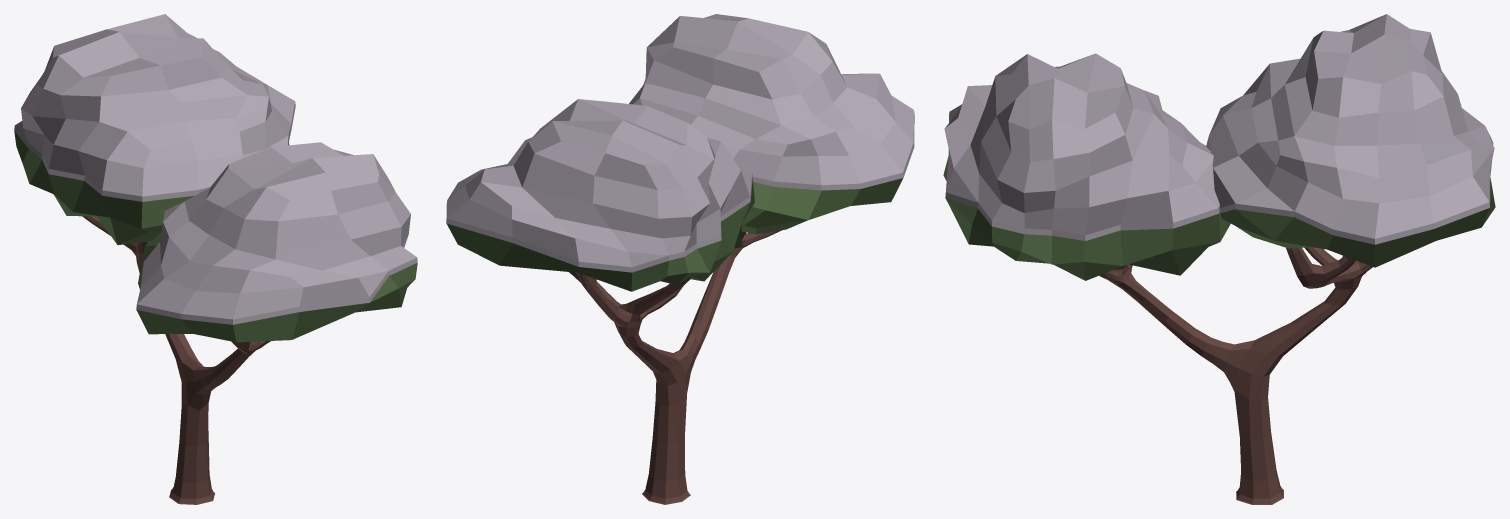
Rendered from commontree_snow1.glb.
3 renders of one model, left to right at view 1: azimuth 30°, elevation 25°; view 2: azimuth 150°, elevation 25°; view 3: azimuth 270°, elevation 25°, orthographic. The views are drawn at different scales.
Parts seen in each view (by area): view 1: CommonTree_Snow_1; view 2: CommonTree_Snow_1; view 3: CommonTree_Snow_1.
Part boxes in pixels (box(x1,y1,x2,y2)): CommonTree_Snow_1: box(14, 14, 417, 504); CommonTree_Snow_1: box(446, 14, 914, 504); CommonTree_Snow_1: box(943, 14, 1495, 504).
Size of the model in its own units: 1.89 by 2.51 by 2.77.
